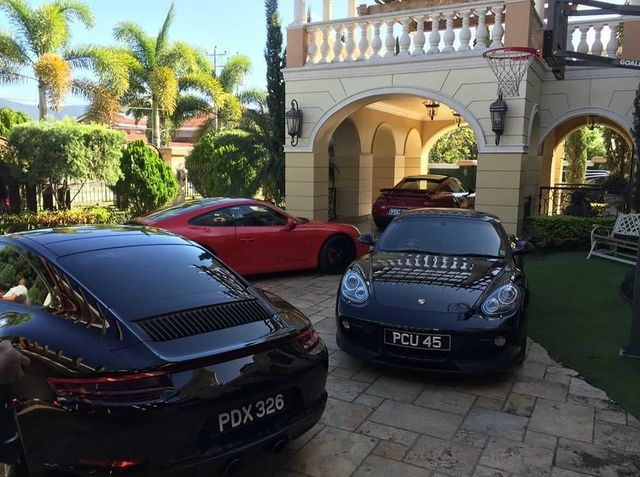License-Plate: (213, 414, 286, 433), (386, 329, 448, 342)
